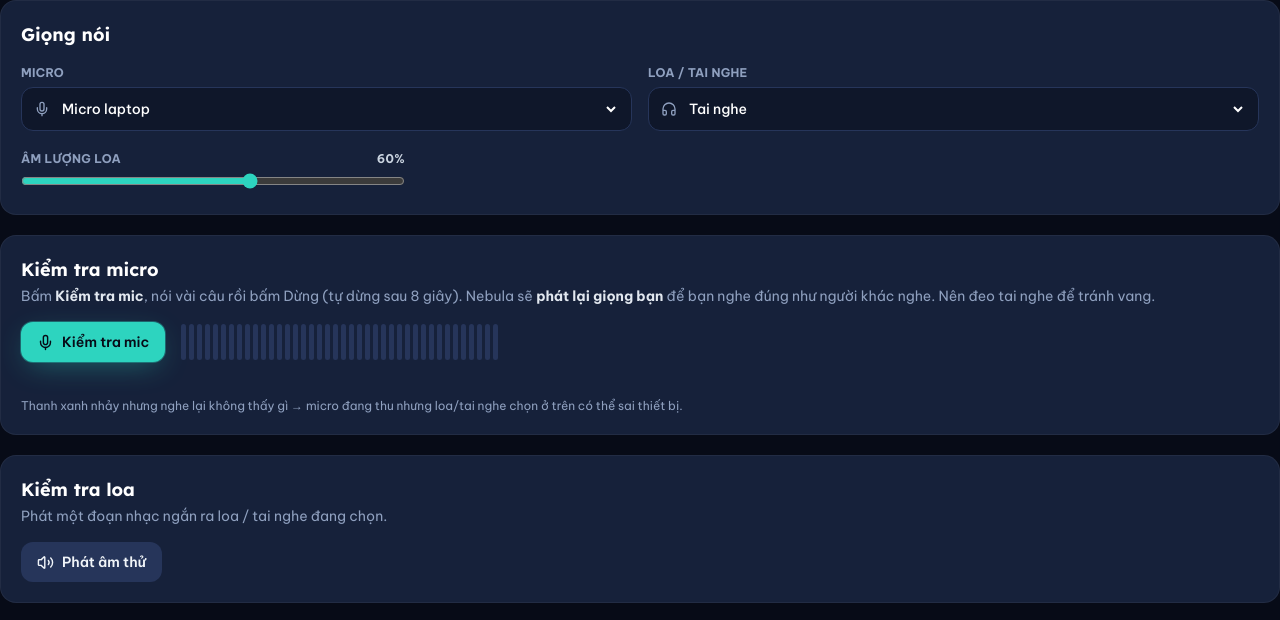
Scenario: Cài đặt → Giọng nói & Video › kiểm tra mic: ghi bằng micro đã chọn → dừng → PHÁT LẠI bản ghi qua loa đã chọn
Later steps or results of the test are not shown.
Click the button "Kiểm tra mic" at (93, 342), box [21,322,165,362]
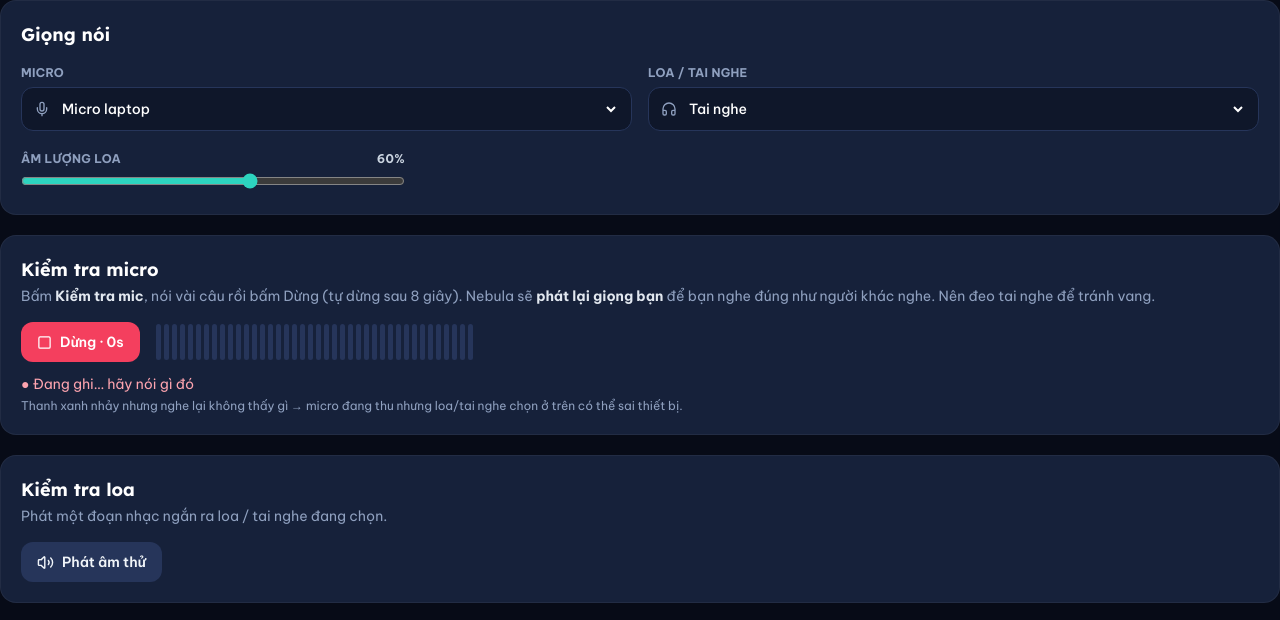
Now the text "● Đang ghi… hãy nói gì đó" is shown, box [21,375,194,393]
Click the button "Dừng · 0s" at (80, 342), box [21,322,140,362]
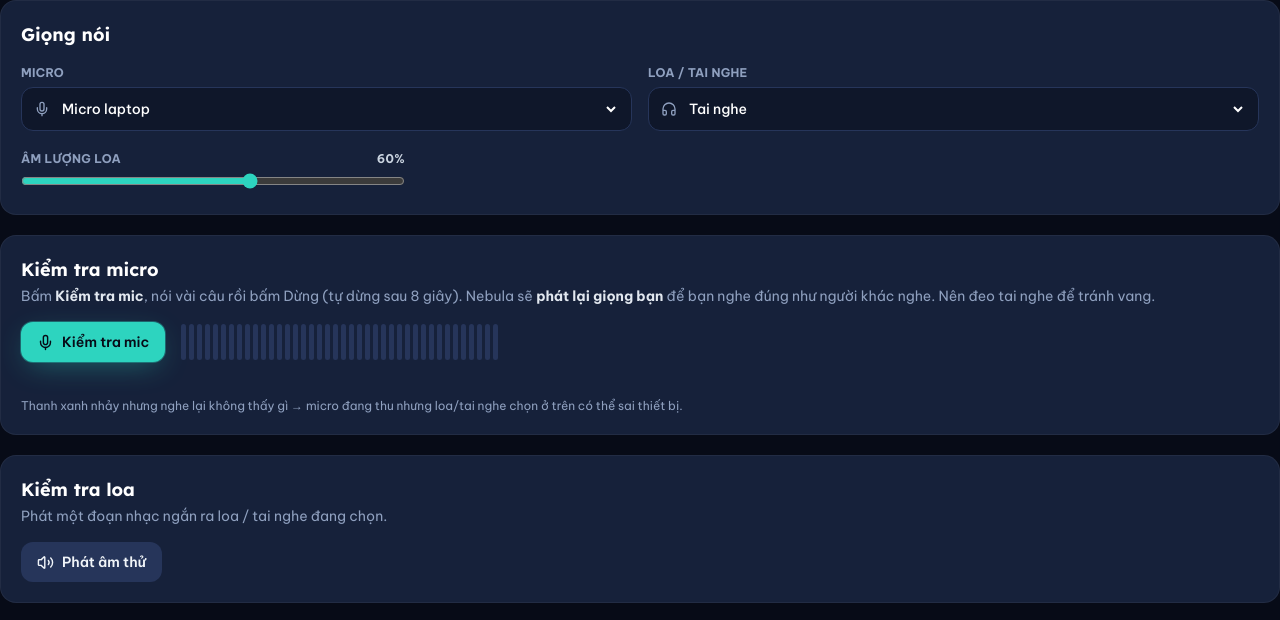
Now the button "Kiểm tra mic" is shown, box [21,322,165,362]
